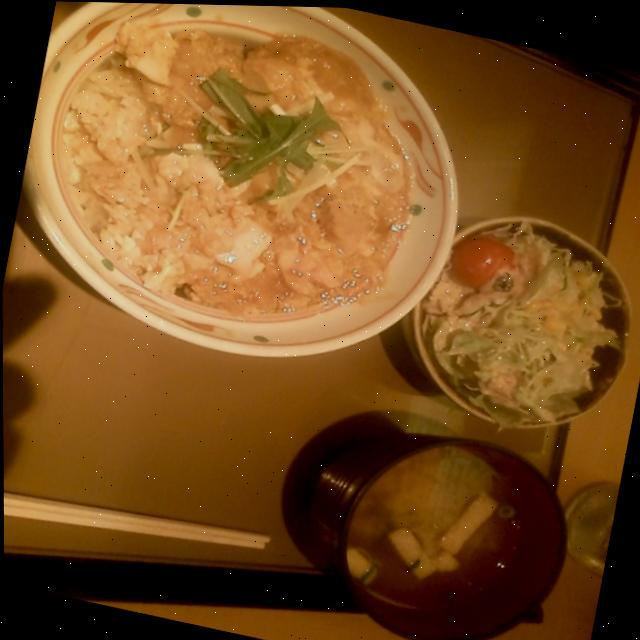汤锅炖物: (299, 418, 562, 640)
蔬菜料理: (397, 205, 635, 446)
